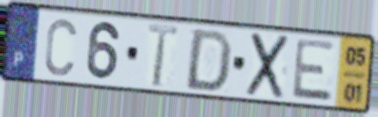6: (86, 19, 124, 83)
C: (42, 16, 79, 78)
D: (182, 27, 235, 94)
E: (290, 37, 338, 104)
T: (146, 21, 180, 89)
X: (243, 31, 292, 102)
